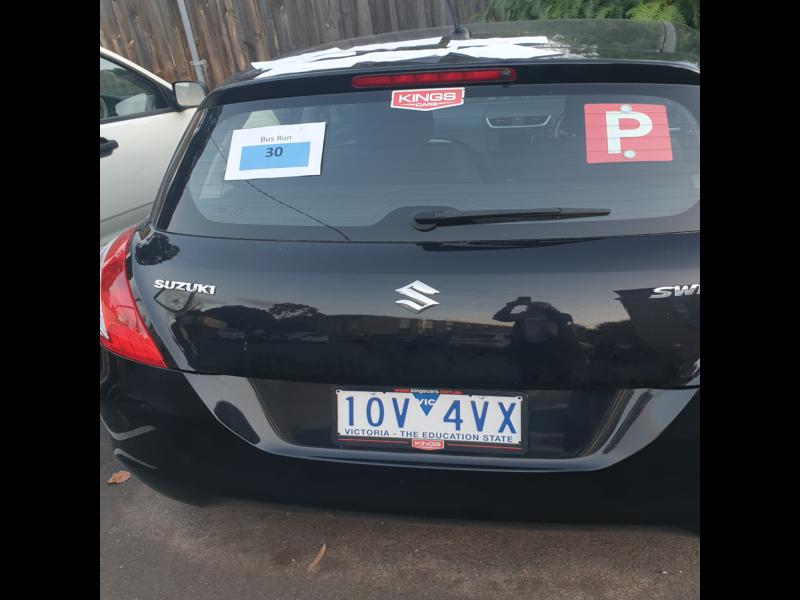BusRun: (241, 144, 309, 169)
PlateNo: (334, 389, 522, 445)
